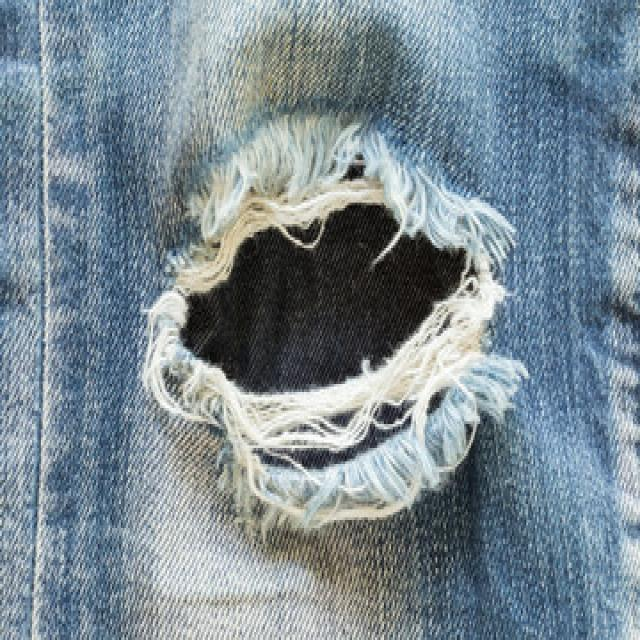Hole: (143, 114, 527, 534)
